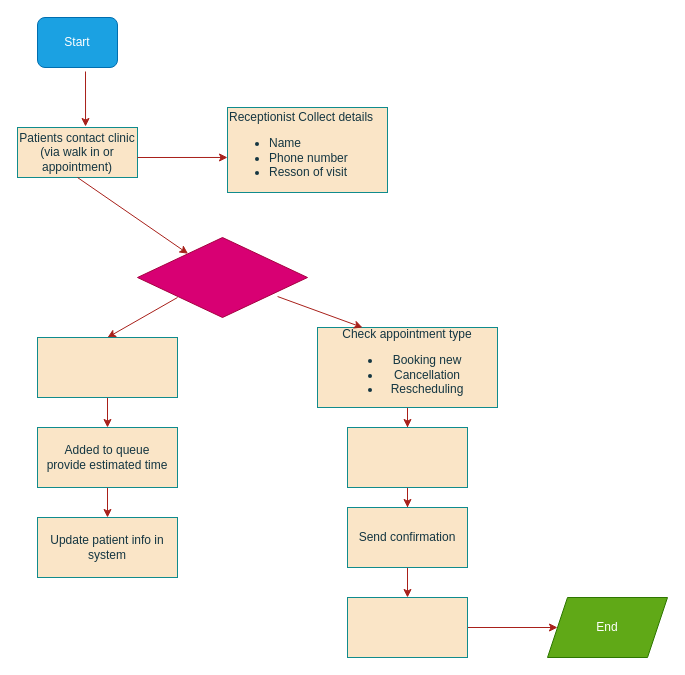
The diagram is 685 pixels wide and 675 high, and some of its shapes have lost their labels. The box of each missing label's shape, as (x1, y1, x2, y2) in pixels:
Check doctor availability: (36, 336, 178, 398)
Perform action: (346, 426, 468, 488)
Update in the system: (346, 596, 468, 658)
Walk in/ Appointment: (136, 236, 308, 318)
